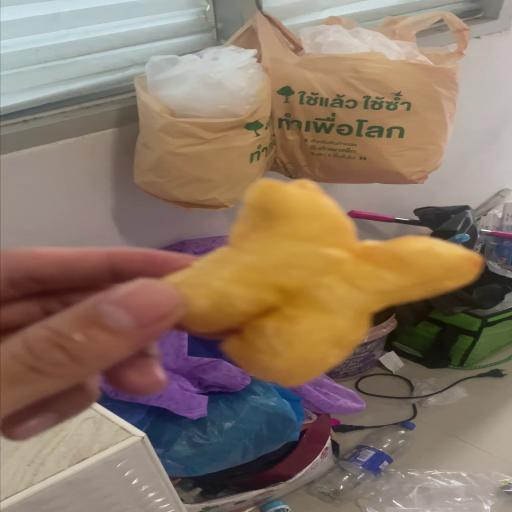street_golden_good: (166, 179, 485, 387)
